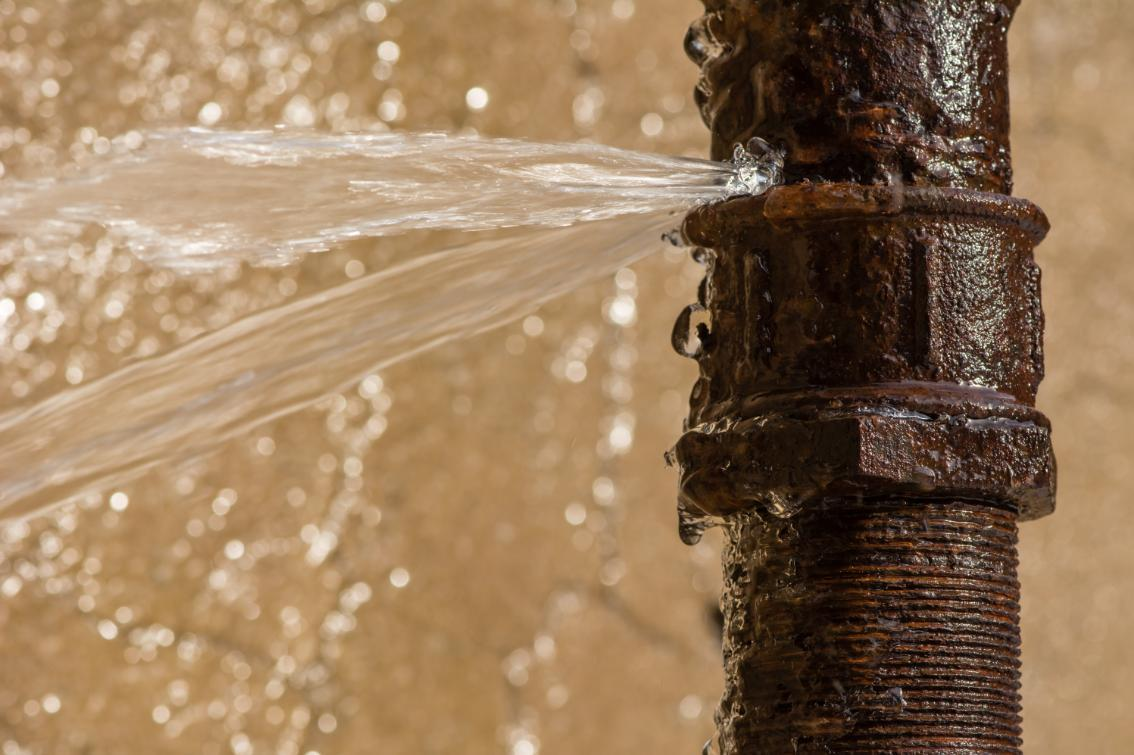pipe burst: (0, 127, 784, 511)
water drop: (679, 505, 705, 547)
